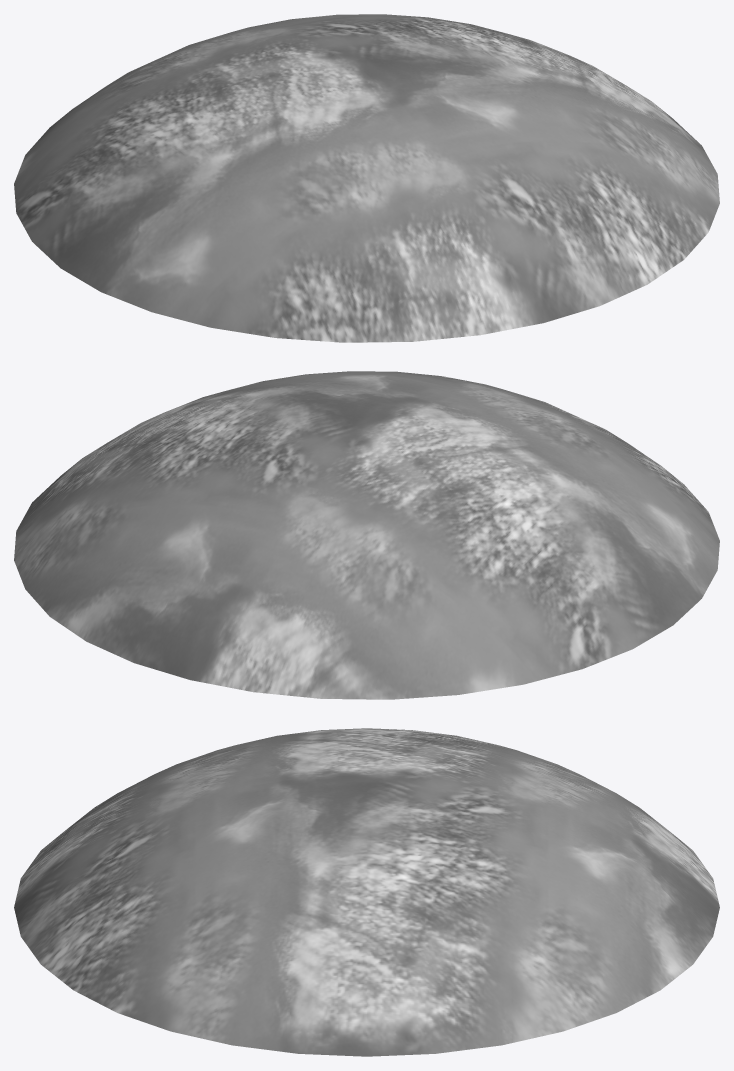
The model's file is miredome.obj.
3 renders of one model, top to bottom at view 1: azimuth 30°, elevation 25°; view 2: azimuth 150°, elevation 25°; view 3: azimuth 270°, elevation 25°, orthographic.
Parts seen in each view (by area): view 1: sphere; view 2: sphere; view 3: sphere.
Part boxes in pixels (x1,y1,x2,y2): sphere: (14,14,719,342); sphere: (14,371,719,699); sphere: (14,728,719,1056).
Size of the model in its own units: 2.01 by 0.4022 by 2.01.
Materials: 1 (1 with a texture image).
